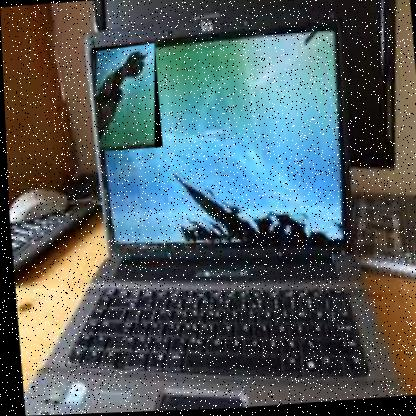crack: (163, 159, 342, 245), (90, 44, 161, 153)
